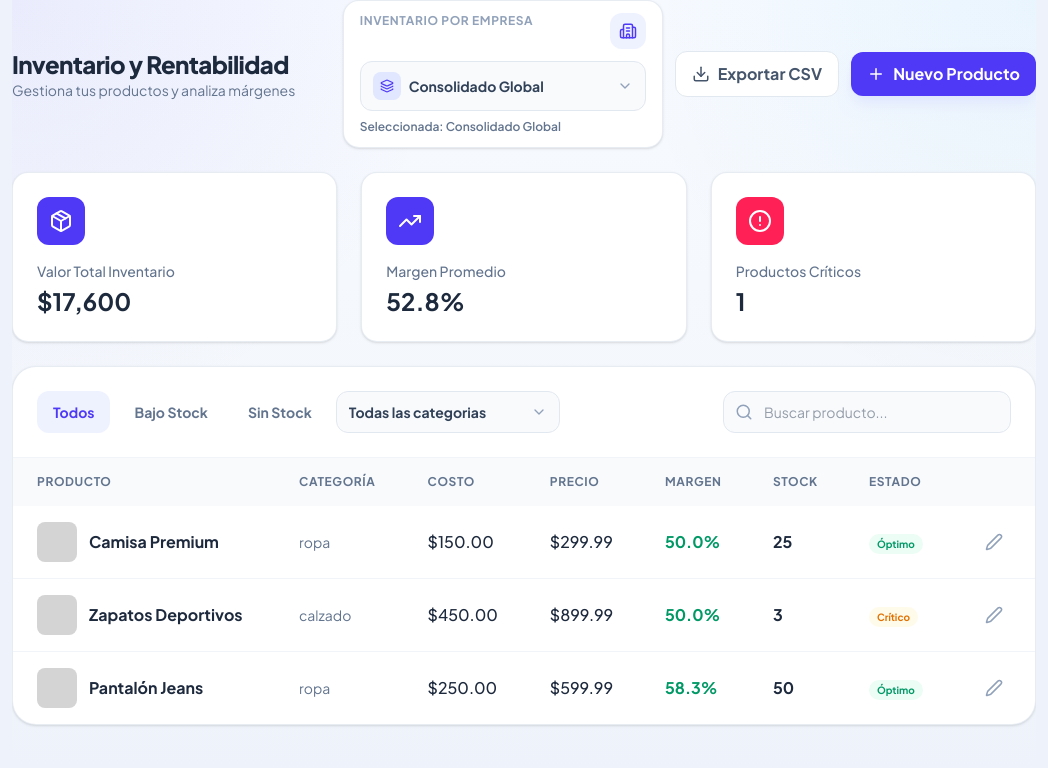
Scenario: AdminInventory Integration Tests › Complete Inventory Management Workflow › should handle stock filtering
This screenshot has width=1048, height=768.
# Filter low stock
Click the button "Bajo Stock" at (171, 412), box [118, 391, 224, 433]
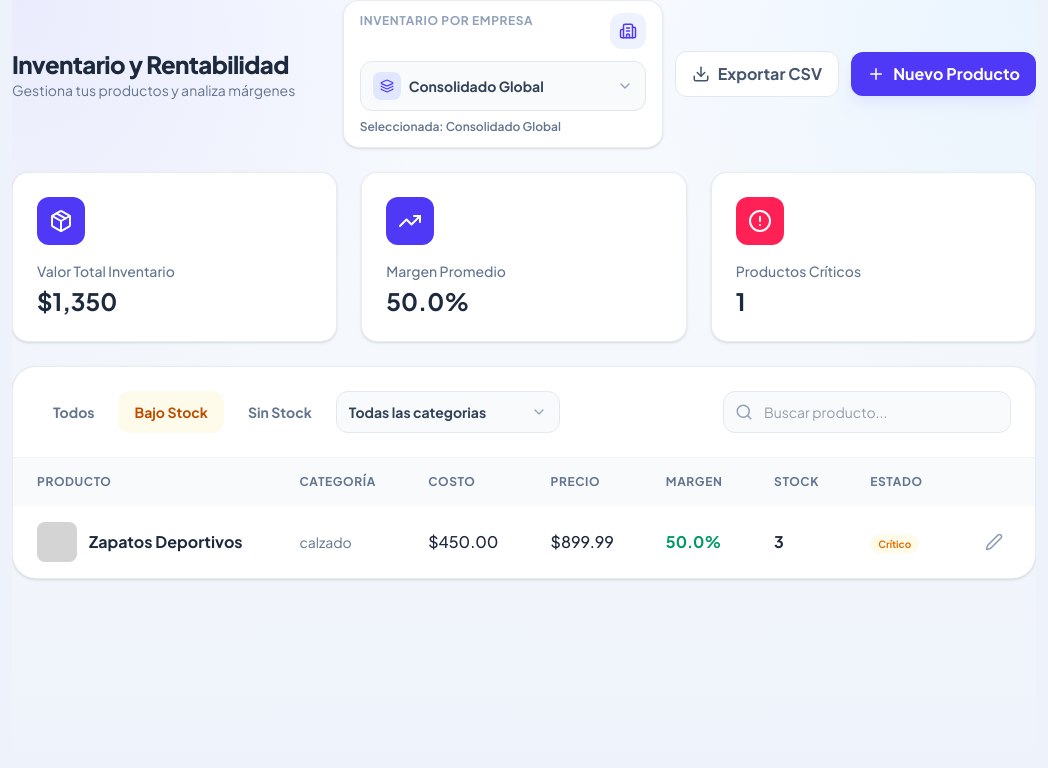
Expected: the text "Zapatos Deportivos" is shown, [89, 530, 243, 554]
Expected: the text "Camisa Premium" is gone
Expected: the text "Pantalón Jeans" is gone
# Filter out of stock
Click the button "Sin Stock" at (280, 412), box [232, 391, 328, 433]
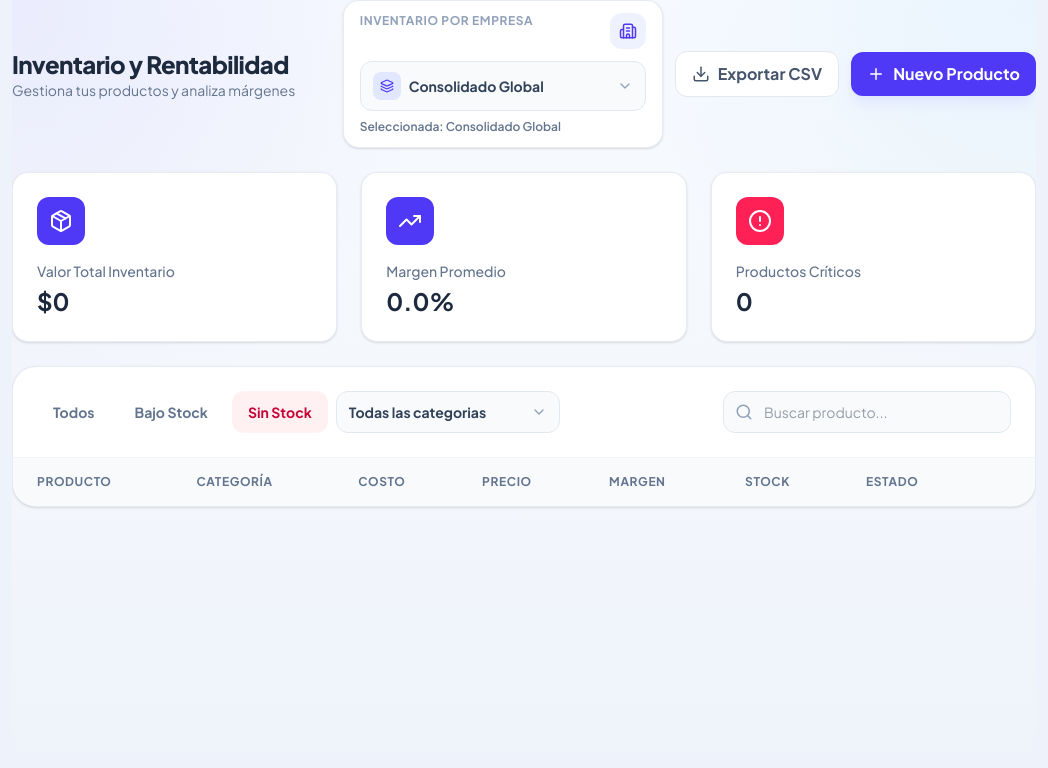
Expected: the text "Camisa Premium" is not shown
Expected: the text "Zapatos Deportivos" is gone
